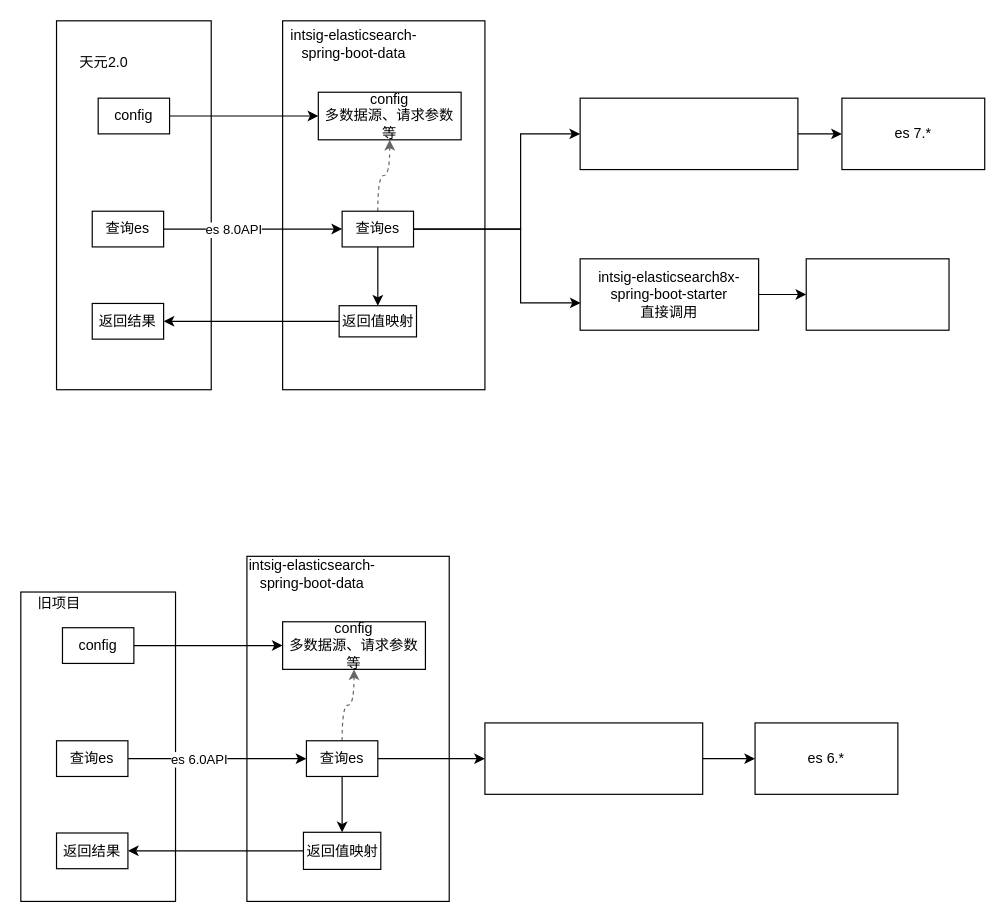
Some shapes in this 1006 by 922 pixel diagram are drawn without their labels. Each missing label, with the centre of its shape:
es 8.*: the point at 877,294
intsig-elasticsearch6x-spring-boot-starter: the point at 593,758
intsig-elasticsearch7x-spring-boot-starter es8.0api -》 DSL -》es7.0api: the point at 688,133
